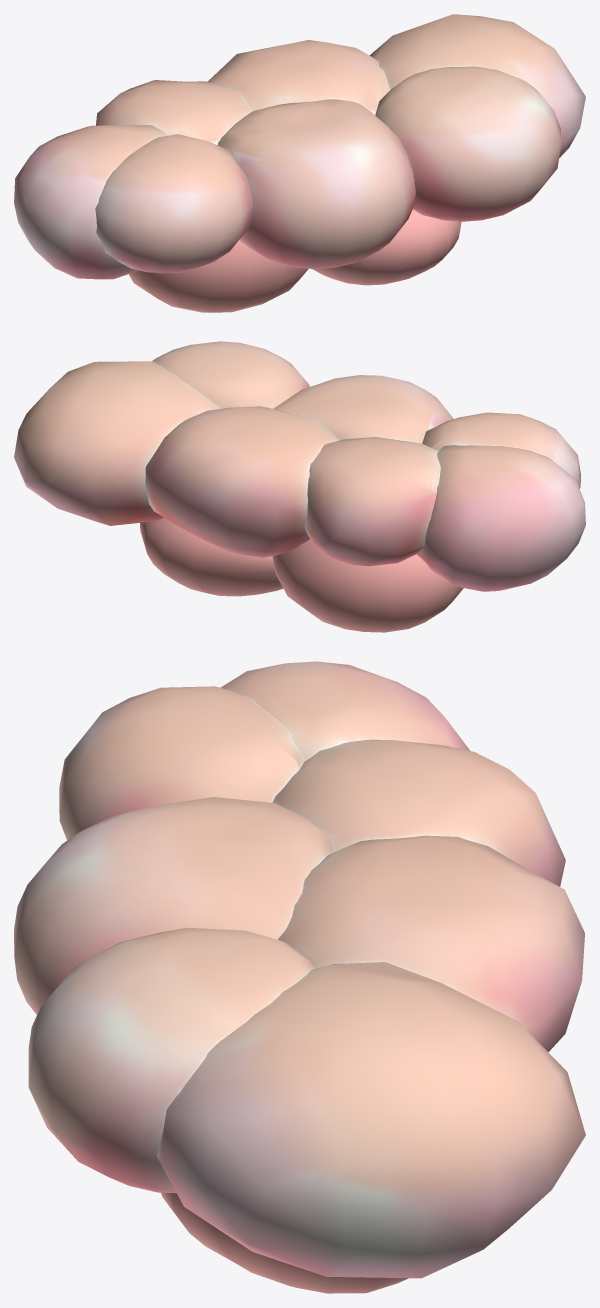
The model's file is testingCloud.fbx.
3 renders of one model, top to bottom at view 1: azimuth 30°, elevation 25°; view 2: azimuth 150°, elevation 25°; view 3: azimuth 270°, elevation 25°, orthographic. The views are drawn at different scales.
Parts seen in each view (by area): view 1: Sphere.009; view 2: Sphere.009; view 3: Sphere.009.
Part boxes in pixels (x1,y1,x2,y2): Sphere.009: (14, 14, 585, 312); Sphere.009: (14, 341, 585, 632); Sphere.009: (14, 661, 585, 1293).
Bounding box in the file's own units: 7.72 × 2.74 × 3.99.
1 material, 1 textured.
